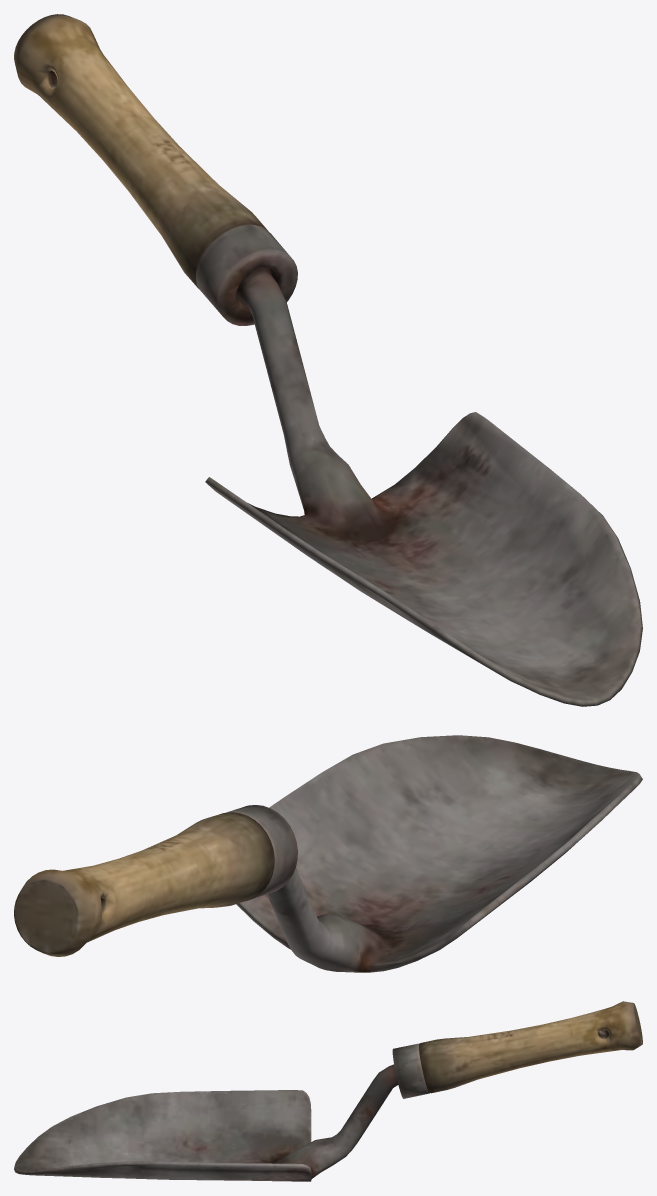
The model's file is ph-trowel-01.lod1.glb.
3 renders of one model, top to bottom at view 1: azimuth 30°, elevation 25°; view 2: azimuth 150°, elevation 25°; view 3: azimuth 270°, elevation 25°, orthographic. The views are drawn at different scales.
Visible parts, largest first — view 1: trowel_01; view 2: trowel_01; view 3: trowel_01.
Boxes of the visible parts, <box> form: trowel_01: <box>14,14,642,706</box>; trowel_01: <box>14,735,642,972</box>; trowel_01: <box>14,1001,642,1181</box>.
Bounding box in the file's own units: 0.0991 × 0.1026 × 0.3468.
1 material, 1 textured.
